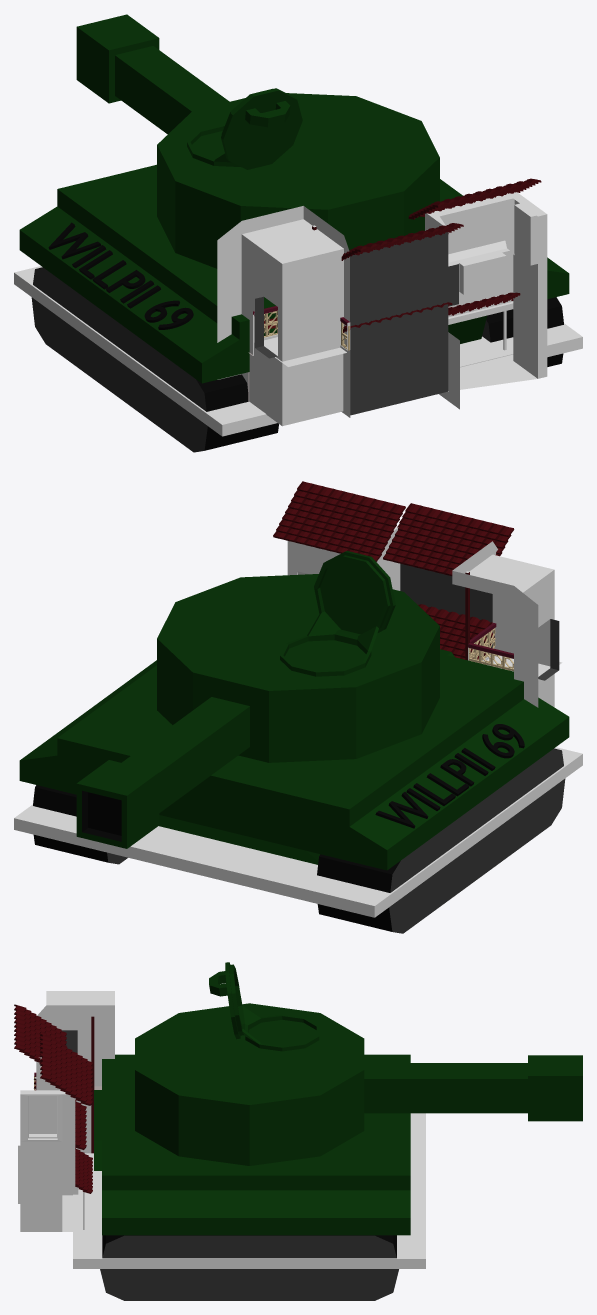
File: Tank.fbx
3 views of the same model, one above another, from view 1: azimuth 30°, elevation 25°; view 2: azimuth 150°, elevation 25°; view 3: azimuth 270°, elevation 25° (orthographic). The views are drawn at different scales.
Visible parts, largest first — view 1: Cube.005, Tank Lid, Tank Wheels, Plane, WILLPII 69, Cube.009, Cube.007, Cube.008, Cube.002, Cube.006; view 2: Tank Wheels, Tank Lid, Plane, Cube.005, Cube.007, Cube.008, WILLPII 69, Cube.004, Cube.009; view 3: Tank Wheels, Tank Lid, Cube.005, Plane, Cube.007, Cube.008, Cube.009, Cube.006, Cube.004.
Boxes of the visible parts, box(x1,y1,x2,y2) form: Cube.005: box(217, 192, 547, 426); Tank Lid: box(76, 14, 439, 268); Tank Wheels: box(19, 164, 569, 452); Plane: box(14, 266, 582, 436); WILLPII 69: box(48, 222, 193, 329); Cube.009: box(248, 225, 350, 417); Cube.007: box(408, 178, 541, 219); Cube.008: box(341, 223, 463, 260); Cube.002: box(439, 332, 459, 409); Cube.006: box(448, 292, 520, 315); Tank Wheels: box(19, 649, 569, 933); Tank Lid: box(76, 551, 439, 848); Plane: box(14, 747, 582, 917); Cube.005: box(287, 527, 559, 707); Cube.007: box(273, 481, 405, 561); Cube.008: box(383, 503, 514, 575); WILLPII 69: box(375, 724, 524, 828); Cube.004: box(417, 604, 494, 659); Cube.009: box(465, 571, 562, 679); Tank Wheels: box(94, 1054, 410, 1300); Tank Lid: box(135, 962, 582, 1165); Cube.005: box(20, 991, 114, 1231); Plane: box(73, 1113, 425, 1268); Cube.007: box(40, 1034, 92, 1105); Cube.008: box(14, 1004, 66, 1064); Cube.009: box(34, 1016, 101, 1153); Cube.006: box(75, 1147, 92, 1193); Cube.004: box(34, 1078, 86, 1149).
Bounding box in the file's own units: 768 × 567 × 1215.
